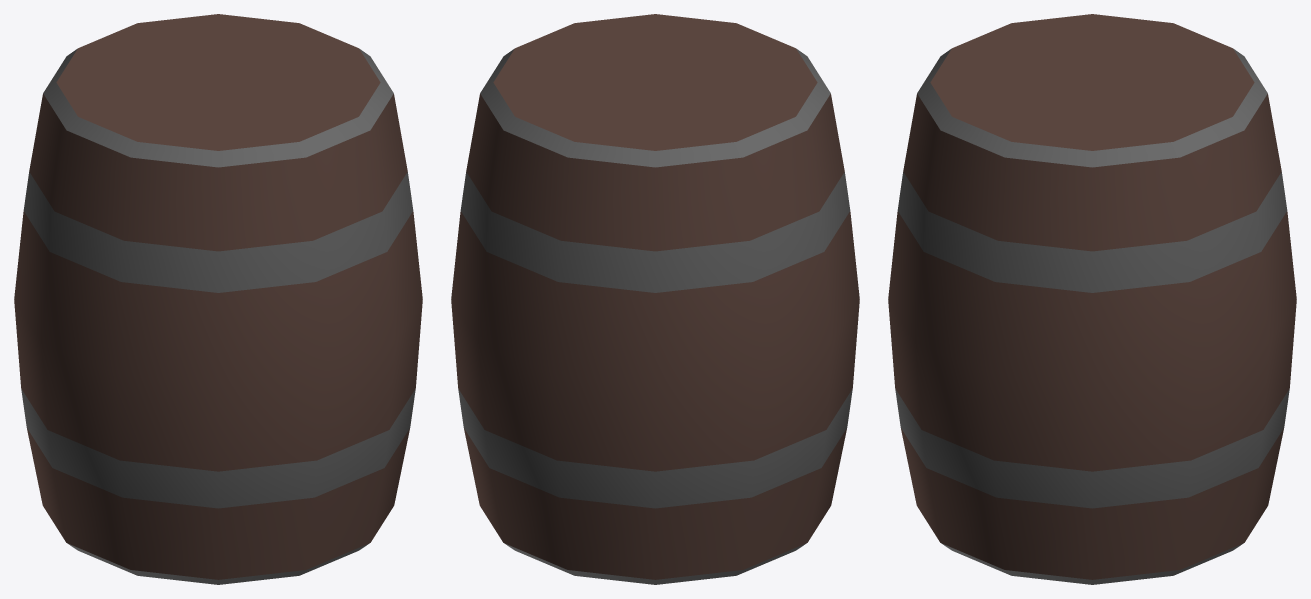
Rendered from Barrel.fbx.
3 renders of one model, left to right at view 1: azimuth 30°, elevation 25°; view 2: azimuth 150°, elevation 25°; view 3: azimuth 270°, elevation 25°, orthographic.
Visible parts, largest first — view 1: Barrel; view 2: Barrel; view 3: Barrel.
Boxes of the visible parts, box(x1,y1,x2,y2) form: Barrel: box(14, 14, 422, 584); Barrel: box(451, 14, 859, 584); Barrel: box(888, 14, 1296, 584).
Size of the model in its own units: 0.8032 by 0.941 by 0.8032.
1 material, 1 textured.
